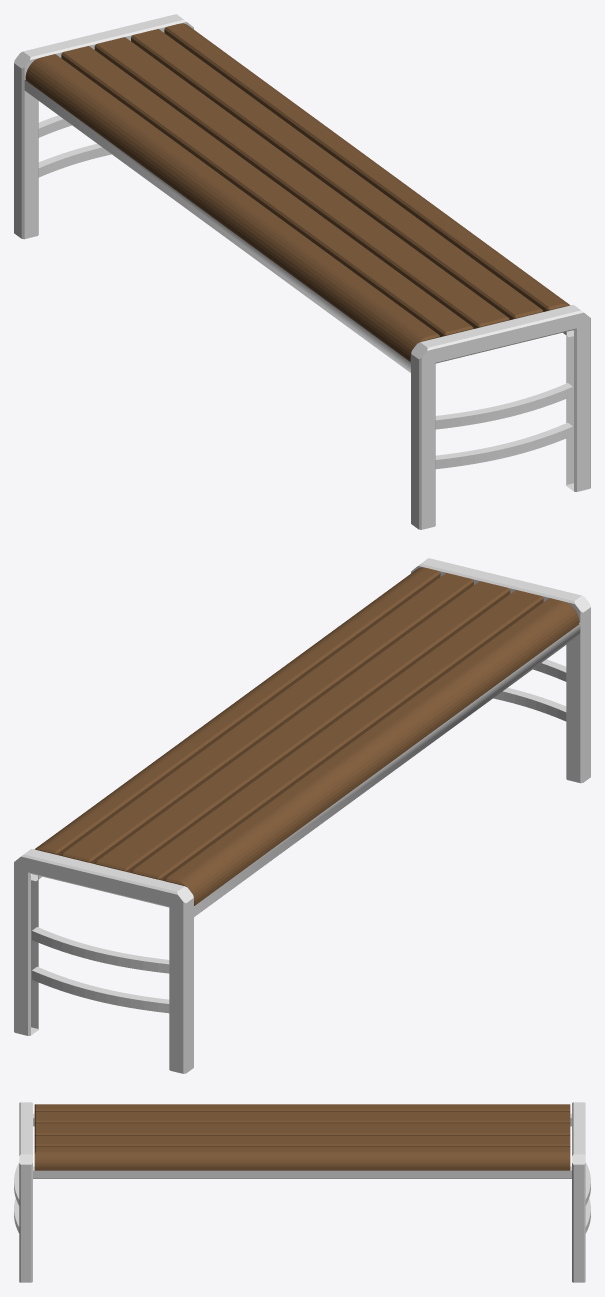
3 views of the same model, one above another, from view 1: azimuth 30°, elevation 25°; view 2: azimuth 150°, elevation 25°; view 3: azimuth 270°, elevation 25° (orthographic). The views are drawn at different scales.
Visible parts, largest first — view 1: B-24; view 2: B-24; view 3: B-24.
Part boxes in pixels (x1,y1,x2,y2): B-24: [14, 14, 590, 529]; B-24: [14, 558, 590, 1073]; B-24: [14, 1102, 590, 1282].
Bounding box in the file's own units: 48.8 × 48.75 × 204.
